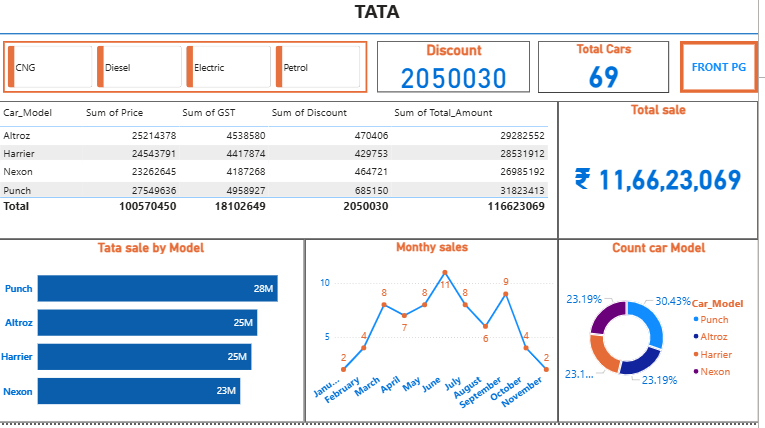

This screenshot's page, from the dashboard's own definition file:
{"tool":"powerbi","page":{"name":"Tata","canvas":[1280,720],"ordinal":1},"visuals":[{"type":"textbox","box":[0,0,1280,65],"z":0},{"type":"barChart","title":"Tata sale by Model","fields":{"Category":["car_sales_2025_india_updated.Car_Model"],"Y":["Sum(car_sales_2025_india_updated.Price)"]},"box":[0,411.7,518.3,308.3],"z":1000},{"type":"donutChart","title":"Count car Model","fields":{"Category":["car_sales_2025_india_updated.Car_Model"],"Y":["CountNonNull(car_sales_2025_india_updated.Price)"]},"box":[943.3,411.7,336.7,308.3],"z":2000},{"type":"lineChart","title":"Monthy sales","fields":{"Category":["car_sales_2025_india_updated.Delivery_Date.Variation.Date Hierarchy.Month"],"Y":["Count(car_sales_2025_india_updated.Price)"]},"box":[518.3,411.7,425,308.3],"z":3000},{"type":"tableEx","fields":{"Values":["car_sales_2025_india_updated.Car_Model","Sum(car_sales_2025_india_updated.Price)","Sum(car_sales_2025_india_updated.GST)","Sum(car_sales_2025_india_updated.Discount)","Sum(car_sales_2025_india_updated.Total_Amount)"]},"box":[0,179.7,944,231.8],"z":4000},{"type":"shape","box":[0,10,1280,113.3],"z":5000},{"type":"card","title":"Total Cars","fields":{"Values":["CountNonNull(car_sales_2025_india_updated.Car_Model)"]},"box":[910.4,79,220.1,87.3],"z":6000},{"type":"card","title":"Discount","fields":{"Values":["Sum(car_sales_2025_india_updated.Discount)"]},"box":[640,79,257,85.7],"z":7000},{"type":"card","title":"Total sale","fields":{"Values":["Sum(car_sales_2025_india_updated.Total_Amount)"]},"box":[944,179.7,336,231.8],"z":9000},{"type":"advancedSlicerVisual","fields":{"Values":["car_sales_2025_india_updated.Fuel_Type"]},"box":[11.7,78.3,611.7,86.7],"z":10000},{"type":"actionButton","box":[1149,79,131,87.3],"z":10001}]}

Visuals, with their boxes in screenshot pixels (x1, y1, x2, y2), scaled from the page's 1280x720 canvas onto the 765x428 screenshot:
textbox: BBox(0, 0, 764, 39)
"Tata sale by Model" barChart: BBox(0, 245, 310, 427)
"Count car Model" donutChart: BBox(564, 245, 764, 427)
"Monthy sales" lineChart: BBox(310, 245, 564, 427)
tableEx - car_sales_2025_india_updated.Car_Model x Sum(car_sales_2025_india_updated.Price): BBox(0, 107, 564, 245)
shape: BBox(0, 6, 764, 73)
"Total Cars" card: BBox(544, 47, 676, 99)
"Discount" card: BBox(382, 47, 536, 98)
"Total sale" card: BBox(564, 107, 764, 245)
advancedSlicerVisual - car_sales_2025_india_updated.Fuel_Type: BBox(7, 47, 373, 98)
actionButton: BBox(687, 47, 764, 99)
